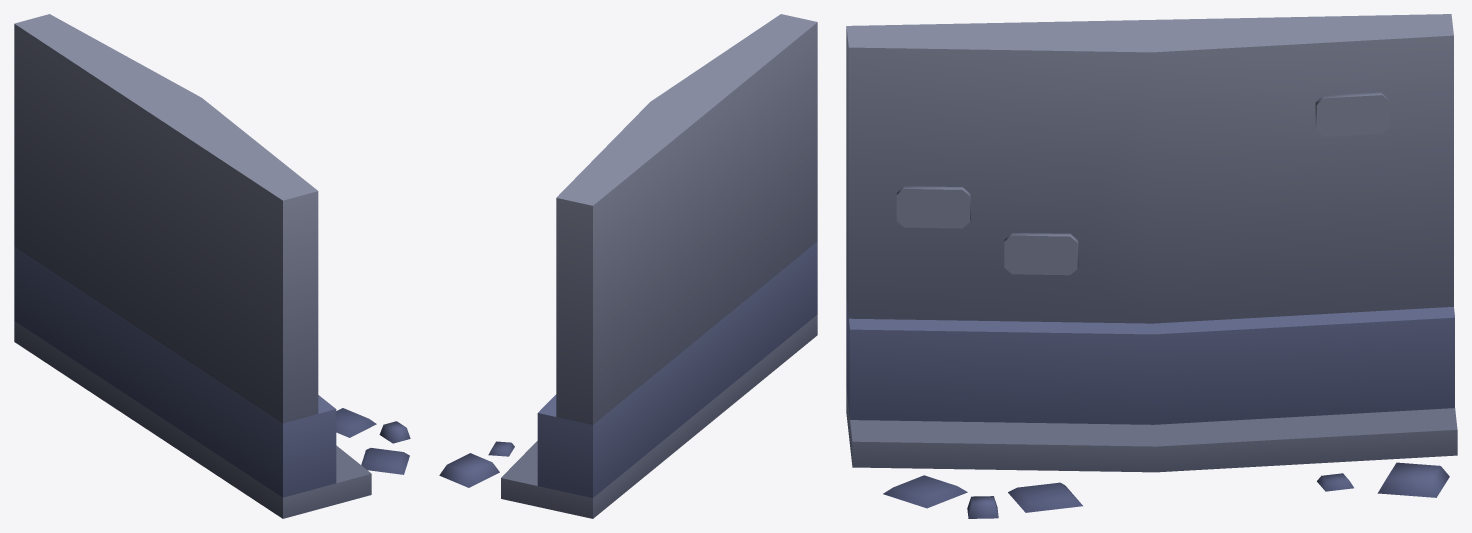
The model's file is template-wall_lev1.glb.
The picture shows the model from 3 angles, left to right: view 1: azimuth 30°, elevation 25°; view 2: azimuth 150°, elevation 25°; view 3: azimuth 270°, elevation 25°; orthographic projection. The views are drawn at different scales.
Parts seen in each view (by area): view 1: template-wall_lev1; view 2: template-wall_lev1; view 3: template-wall_lev1.
Part boxes in pixels (left/top/right/bottom): template-wall_lev1: left=14, top=14, right=410, bottom=518; template-wall_lev1: left=439, top=14, right=817, bottom=518; template-wall_lev1: left=846, top=14, right=1457, bottom=518.
Bounding box in the file's own units: 3.45 × 5.3 × 7.57.
Materials: 1 (1 with a texture image).
